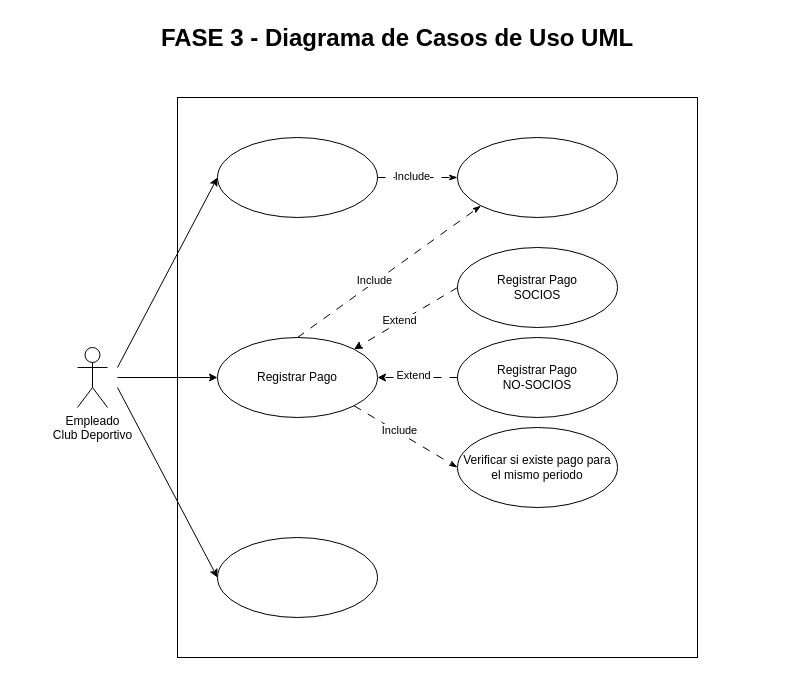
Image size: 794x675. Some labels were removed from this diagram. Here are the shapes that lost their labels. From the top down, the centre of each, then its label:
(x=297, y=177): Registrar Alumno
(x=537, y=177): Verificar si existe el Alumno
(x=297, y=577): Listar Socios con vencimiento hoy
